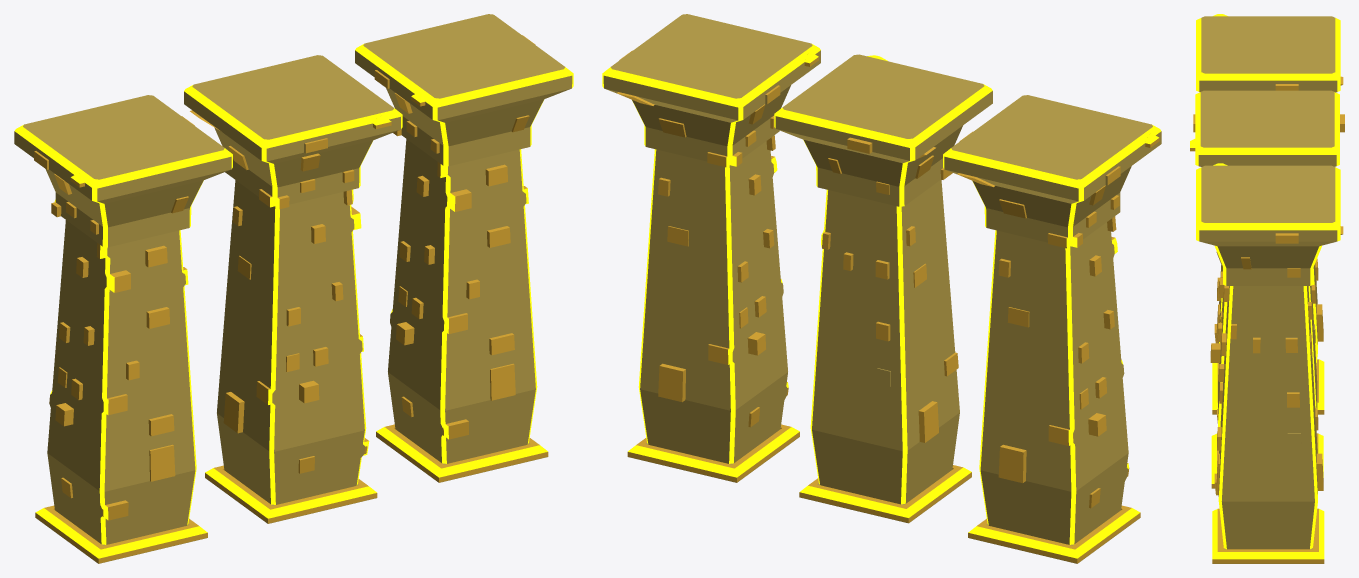
The model's file is EG_[Barrera]Columnas.fbx.
3 renders of one model, left to right at view 1: azimuth 30°, elevation 25°; view 2: azimuth 150°, elevation 25°; view 3: azimuth 270°, elevation 25°, orthographic. The views are drawn at different scales.
Visible parts, largest first — view 1: Cube.018; view 2: Cube.018; view 3: Cube.018.
Part boxes in pixels (x1=…): Cube.018: x1=14, y1=14, x2=573, y2=563; Cube.018: x1=602, y1=14, x2=1161, y2=563; Cube.018: x1=1190, y1=14, x2=1344, y2=563.
Size of the model in its own units: 285 by 218 by 87.72.
